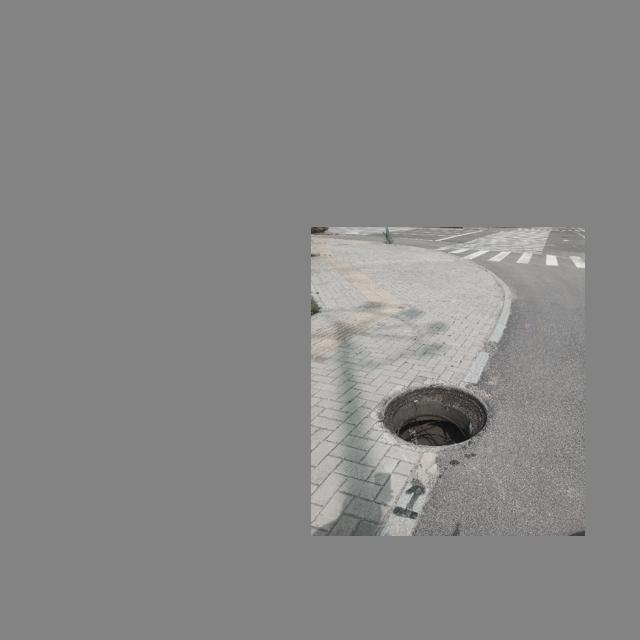lose: (380, 383, 490, 447)
